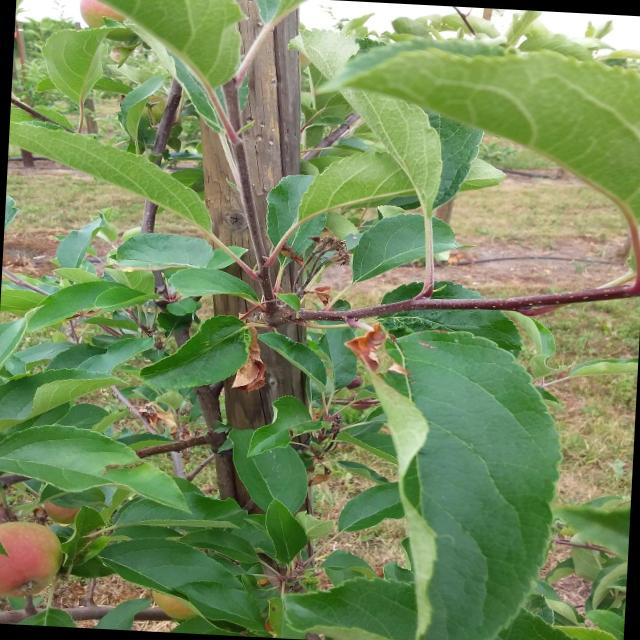-FireBlight-: (236, 315, 270, 392)
